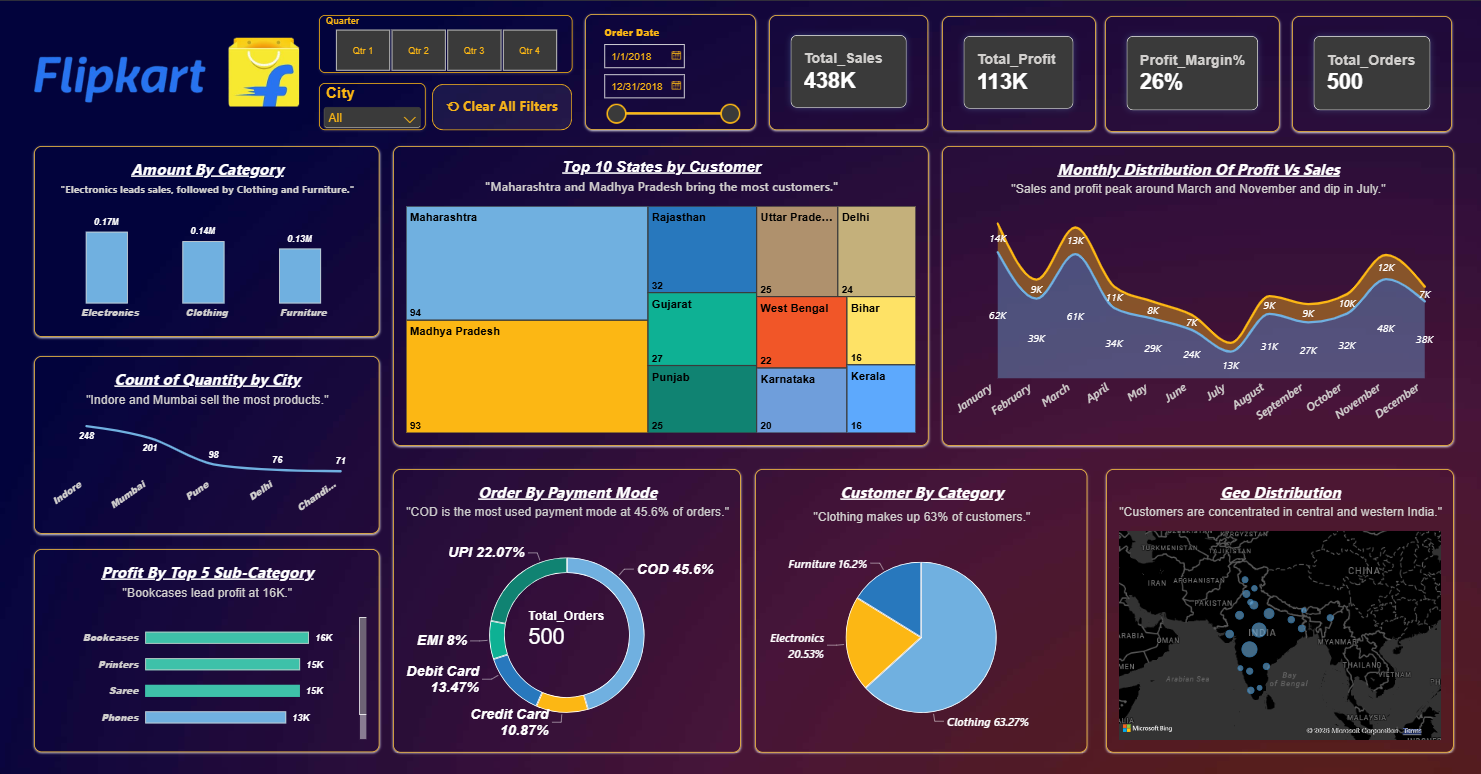

Layout of this report page (visuals, bound fields, positions):
{"tool":"powerbi","page":{"name":"Page 1","canvas":[1920,1080],"ordinal":0},"visuals":[{"type":"image","box":[45,51.2,343.2,153],"z":0},{"type":"columnChart","title":"Amount By Category    ","fields":{"Category":["Details.Category"],"Y":["Sum(Details.Amount)"]},"box":[45,223.3,446.7,246.7],"z":1000},{"type":"stackedAreaChart","title":"Monthly Distribution Of Profit Vs Sales","fields":{"Category":["Orders.Order Date.Variation.Date Hierarchy.Month"],"Y":["Sum(Details.Amount)","Sum(Details.Profit)"]},"box":[1220,223.3,661.7,388.3],"z":2000},{"type":"donutChart","title":"Order By Payment Mode","fields":{"Series":["Details.PaymentMode"],"Y":["CountNonNull(Details.Order ID)"]},"box":[510,641.7,450,366.7],"z":3000},{"type":"clusteredBarChart","title":"Profit By Top 5 Sub-Category","fields":{"Category":["Details.Sub-Category"],"Y":["Sum(Details.Profit)"]},"box":[45,745,446.7,263.3],"z":4000},{"type":"map","title":"Geo Distribution","fields":{"Category":["Orders.State"],"Size":["Sum(Details.Amount)"]},"box":[1431.7,641.7,450,366.7],"z":5000},{"type":"pieChart","title":"Customer By Category","fields":{"Series":["Details.Category"],"Y":["CountNonNull(Details.Order ID)"]},"box":[978.3,641.7,430,366.7],"z":6000},{"type":"treemap","title":"Top 10 States by Customer","fields":{"Group":["Orders.State"],"Values":["CountNonNull(Orders.CustomerName)"]},"box":[509.4,223.4,693.3,388.3],"z":7000},{"type":"lineChart","fields":{"Category":["Orders.City"],"Y":["CountNonNull(Details.Quantity)"]},"box":[45.2,496.1,446.7,230],"z":8000},{"type":"slicer","fields":{"Values":["Orders.City"]},"box":[413.8,142.5,137.5,61.2],"z":9000},{"type":"slicer","fields":{"Values":["Orders.Order Date"]},"box":[758.1,53.2,220.8,150.3],"z":10000},{"type":"cardVisual","fields":{"Data":["Details.Total_Sales"]},"box":[996.2,54.5,206.2,149],"z":11000},{"type":"cardVisual","fields":{"Data":["Details.Total_Profit"]},"box":[1220,55,198.8,148.8],"z":12000},{"type":"cardVisual","fields":{"Data":["Details.Profit_Margin%"]},"box":[1431.1,55.9,226.1,150.3],"z":13000},{"type":"cardVisual","fields":{"Data":["Orders.Total_Orders"]},"box":[1673.2,55.9,207.5,150.3],"z":14000},{"type":"actionButton","box":[560,143.8,181.2,60],"z":15000},{"type":"slicer","fields":{"Values":["Orders.Order Date.Variation.Date Hierarchy.Quarter"]},"box":[413.8,53.8,327.5,75],"z":16000},{"type":"cardVisual","fields":{"Data":["Orders.Total_Orders"]},"box":[668.8,790,131.2,120],"z":16001}]}

Visuals, with their boxes on the page's 1920x1080 design canvas (x1, y1, x2, y2). These are canvas units, not pixel positions in the 1481x774 screenshot, which may show the page scaled, cropped or inside an application window:
image: rect(45, 51, 388, 204)
"Amount By Category    " columnChart: rect(45, 223, 492, 470)
"Monthly Distribution Of Profit Vs Sales" stackedAreaChart: rect(1220, 223, 1882, 612)
"Order By Payment Mode" donutChart: rect(510, 642, 960, 1008)
"Profit By Top 5 Sub-Category" clusteredBarChart: rect(45, 745, 492, 1008)
"Geo Distribution" map: rect(1432, 642, 1882, 1008)
"Customer By Category" pieChart: rect(978, 642, 1408, 1008)
"Top 10 States by Customer" treemap: rect(509, 223, 1203, 612)
lineChart - Orders.City x CountNonNull(Details.Quantity): rect(45, 496, 492, 726)
slicer - Orders.City: rect(414, 142, 551, 204)
slicer - Orders.Order Date: rect(758, 53, 979, 204)
cardVisual - Details.Total_Sales: rect(996, 54, 1202, 204)
cardVisual - Details.Total_Profit: rect(1220, 55, 1419, 204)
cardVisual - Details.Profit_Margin%: rect(1431, 56, 1657, 206)
cardVisual - Orders.Total_Orders: rect(1673, 56, 1881, 206)
actionButton: rect(560, 144, 741, 204)
slicer - Orders.Order Date.Variation.Date Hierarchy.Quarter: rect(414, 54, 741, 129)
cardVisual - Orders.Total_Orders: rect(669, 790, 800, 910)
